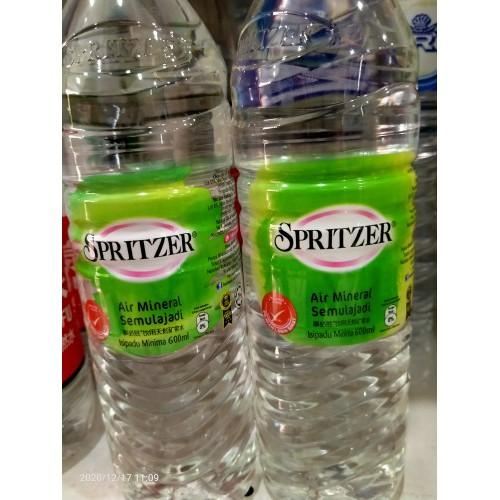plastic: (232, 0, 430, 499), (63, 0, 253, 499)
